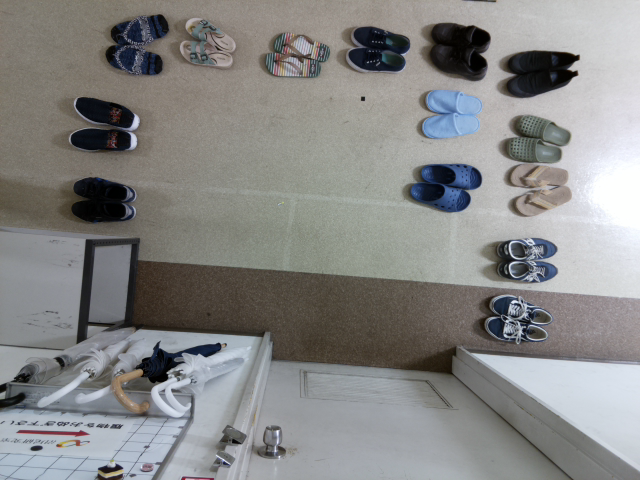Copy of Copy of Copy of Copy of Copy of Copy of Copy of Copy of Copy of Copy of: (477, 310, 553, 350), (508, 107, 581, 148), (496, 129, 569, 170), (424, 40, 492, 84), (505, 182, 585, 219), (484, 286, 555, 326), (500, 66, 583, 99), (498, 43, 584, 74), (504, 159, 581, 193), (347, 21, 419, 56), (403, 180, 475, 215), (424, 18, 496, 53), (414, 157, 485, 192), (417, 86, 488, 121), (412, 108, 483, 143), (490, 229, 565, 260), (491, 257, 565, 288)
Copy of Copy of Copy of Copy of Copy of Copy of Copy of Copy of Copy of shoe: (337, 42, 408, 77)
Copy of Copy of Copy of Copy of Copy of Copy of Copy of Copy of shoe: (261, 45, 326, 86)
Copy of Copy of Copy of Copy of Copy of Copy of Copy of shoe: (267, 24, 333, 65)
Copy of Copy of Copy of Copy of Copy of Copy of shoe: (179, 9, 245, 50)
Copy of Copy of Copy of Copy of Copy of shoe: (174, 34, 239, 75)
Copy of Copy of Copy of Copy of Copy of umbrella: (1, 325, 132, 411)
Copy of Copy of Copy of Copy of shoe: (104, 8, 175, 50)
Copy of Copy of Copy of Copy of umbrella: (34, 324, 147, 413)
Copy of Copy of Copy of shoe: (101, 40, 172, 82)
Copy of Copy of Copy of umbrella: (69, 328, 155, 416)
Copy of Copy of shoe: (67, 88, 145, 130)
Copy of Copy of umbrella: (108, 334, 229, 420)
Copy of shoe: (65, 195, 141, 229), (62, 123, 141, 153)
Copy of umbrella: (163, 335, 259, 423)
shoe: (65, 173, 142, 205)
umbrella: (139, 331, 257, 421)
